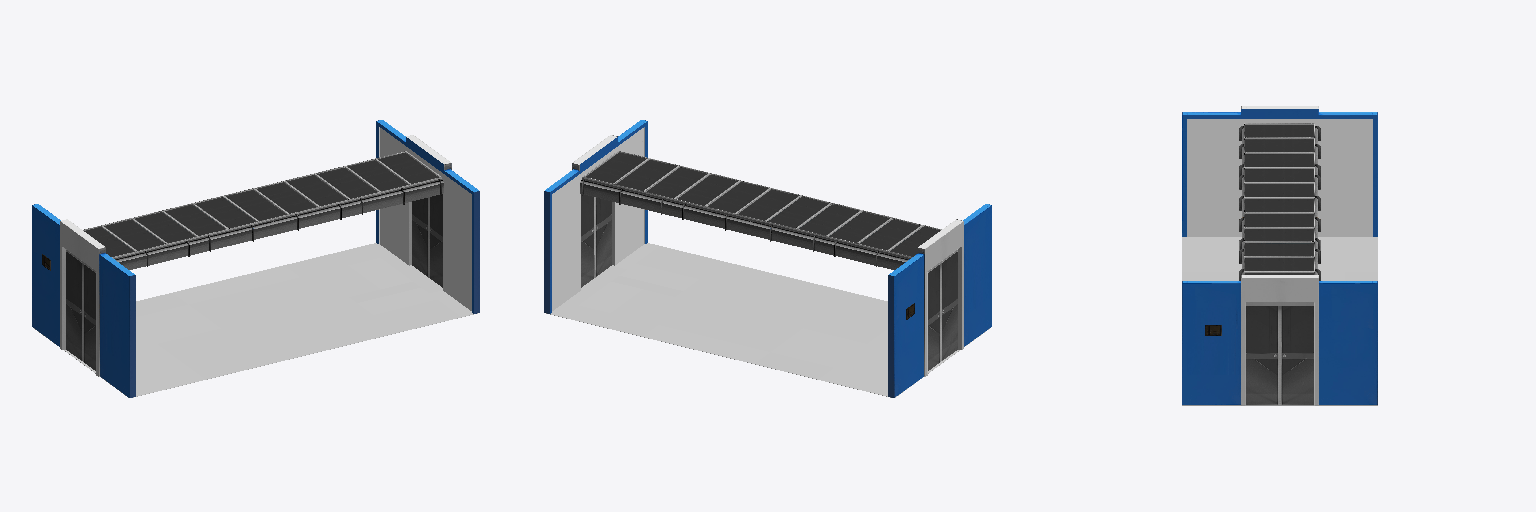
3 renders of one model, left to right at view 1: azimuth 30°, elevation 25°; view 2: azimuth 150°, elevation 25°; view 3: azimuth 270°, elevation 25°, orthographic.
Parts seen in each view (by area): view 1: set7G1200; view 2: set7G1200; view 3: set7G1200.
Part boxes in pixels (x1,y1,x2,y2): set7G1200: (32,120,479,397); set7G1200: (544,120,991,397); set7G1200: (1182,106,1377,405).
Size of the model in its own units: 7.52 by 2.6 by 3.6.
1 materials, 1 textured.